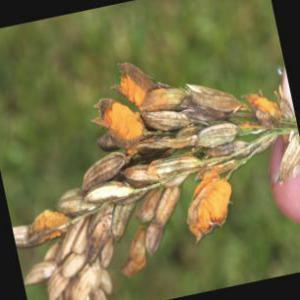Leaf_Scald: (124, 69, 170, 122), (195, 175, 235, 233), (106, 101, 143, 148), (248, 94, 286, 126), (32, 213, 72, 240)
